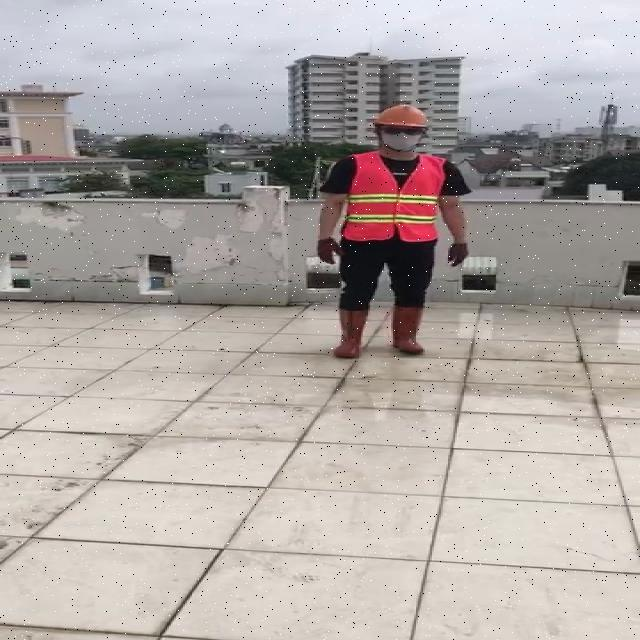Hard_hat: (368, 101, 431, 133)
Vest: (342, 152, 449, 246)
